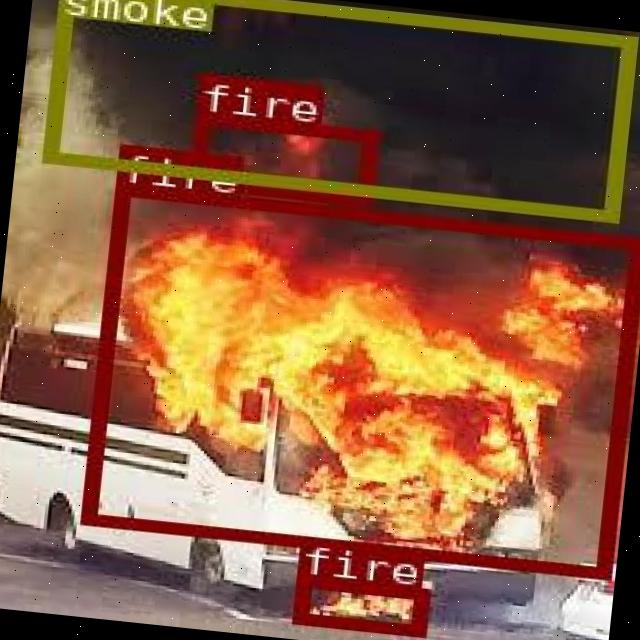fire: (76, 182, 640, 575), (186, 110, 374, 202), (289, 572, 426, 634)
smoke: (41, 0, 634, 220)
